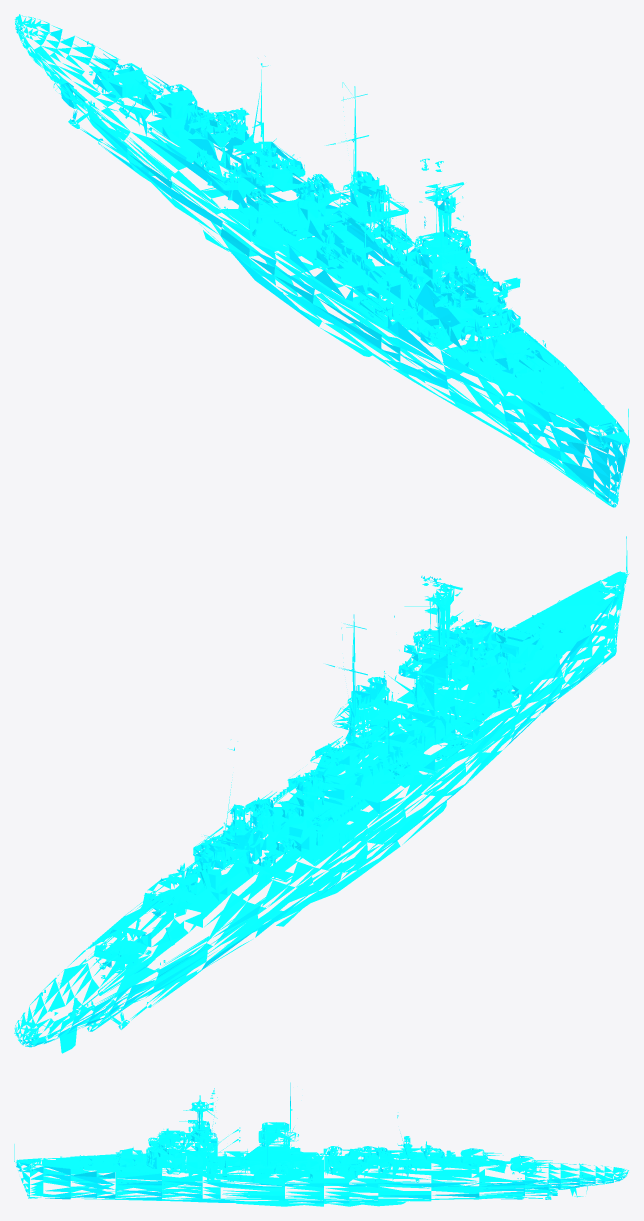
Rendered from Admiral_Makarov.glb.
3 renders of one model, top to bottom at view 1: azimuth 30°, elevation 25°; view 2: azimuth 150°, elevation 25°; view 3: azimuth 270°, elevation 25°, orthographic. The views are drawn at different scales.
Bounding box in the file's own units: 1.14 × 2.53 × 12.11.
